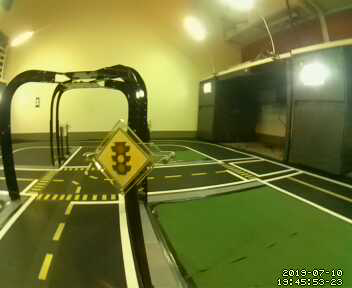Traffic light sign: (95, 129, 148, 184)
